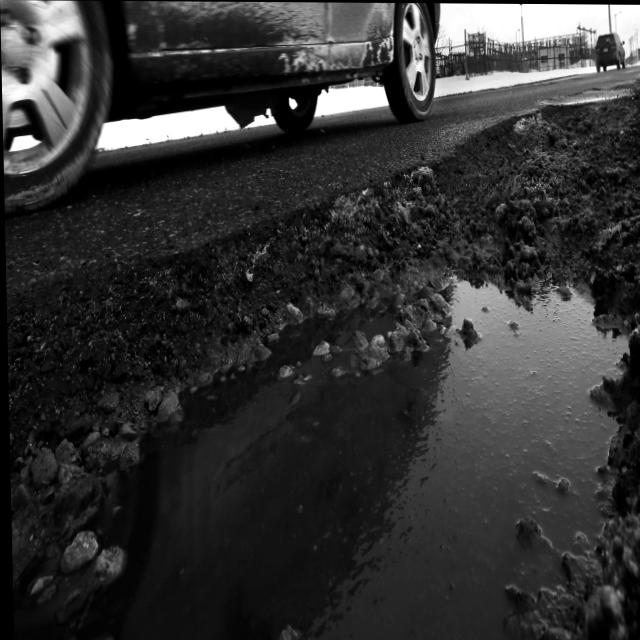pathole: (71, 281, 626, 640), (303, 281, 626, 640), (317, 85, 640, 325)
